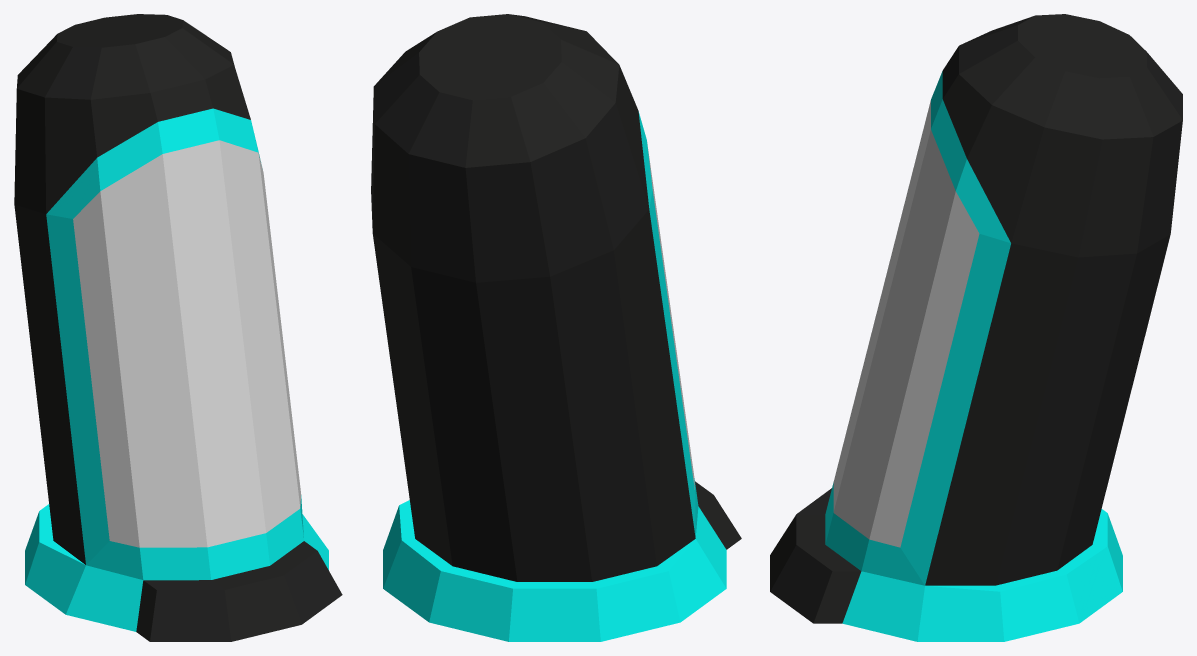
File: Hibernation_Chamber.fbx
3 renders of one model, left to right at view 1: azimuth 30°, elevation 25°; view 2: azimuth 150°, elevation 25°; view 3: azimuth 270°, elevation 25°, orthographic. The views are drawn at different scales.
Parts seen in each view (by area): view 1: Hibernation_Chamber; view 2: Hibernation_Chamber; view 3: Hibernation_Chamber.
Boxes of the visible parts, <box> form: Hibernation_Chamber: <box>14,14,342,641</box>; Hibernation_Chamber: <box>371,14,741,641</box>; Hibernation_Chamber: <box>770,14,1182,641</box>.
Bounding box in the file's own units: 1.82 × 2.32 × 3.35.
